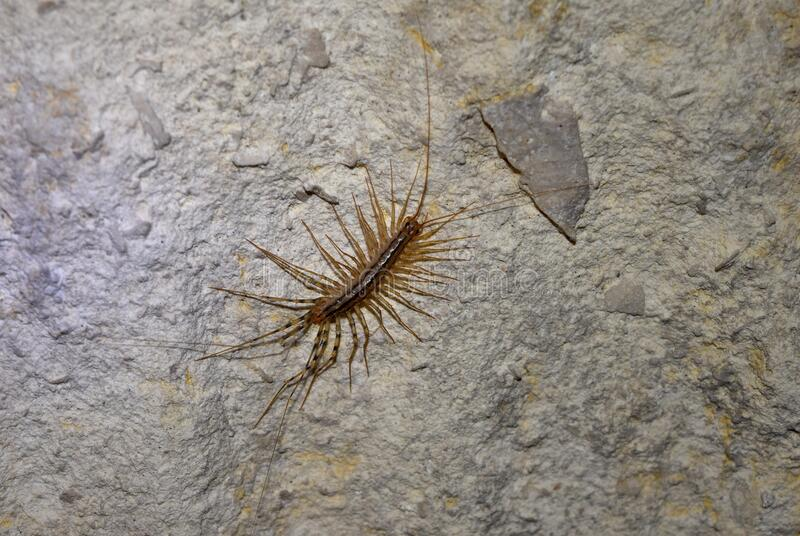centipede: (221, 160, 492, 409)
